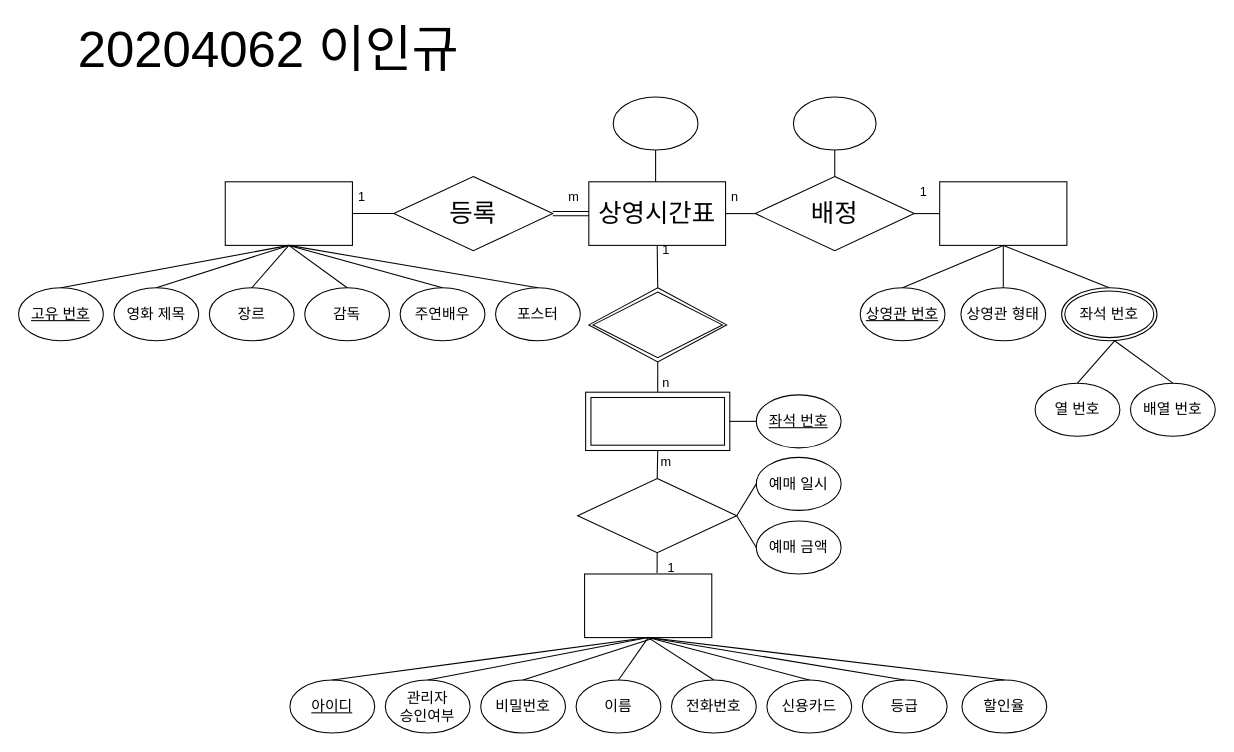
This 1234x752 diagram has some shape labels left out. Each missing label, with the centre of its shape:
상영관: [1003,213]
상영시간: [655,123]
영화: [288,213]
예매: [657,515]
예약좌석: [657,420]
요금: [834,123]
존재: [657,324]
회원: [648,605]
